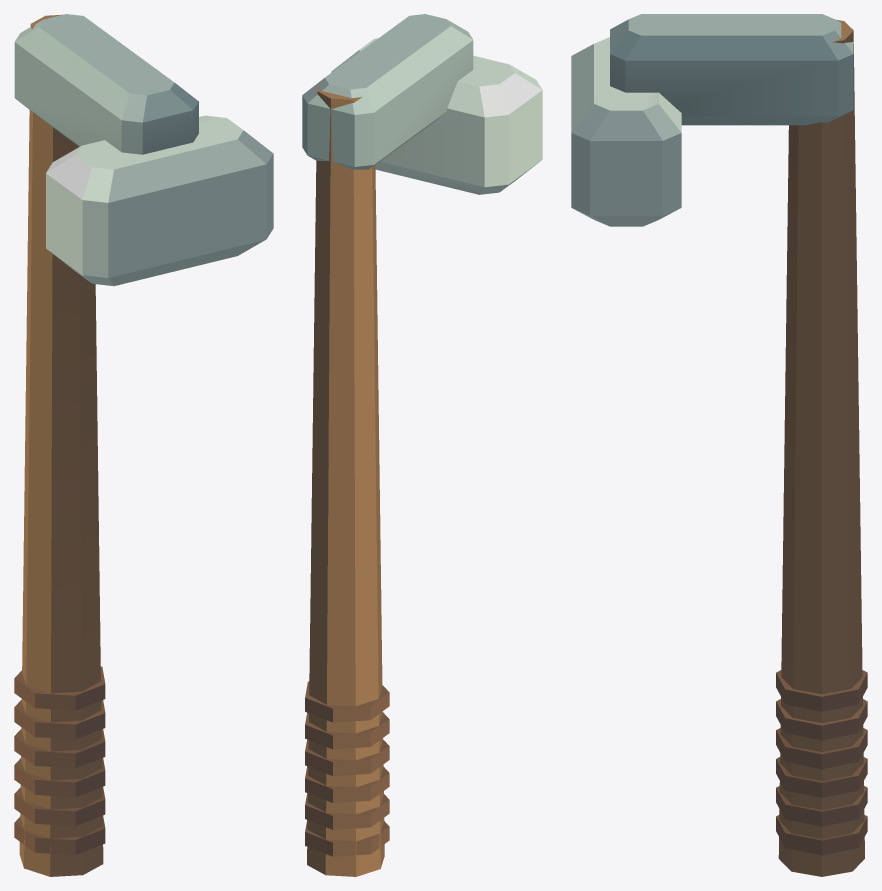
The model's file is star_hoe.glb.
3 renders of one model, left to right at view 1: azimuth 30°, elevation 25°; view 2: azimuth 150°, elevation 25°; view 3: azimuth 270°, elevation 25°, orthographic. The views are drawn at different scales.
Parts seen in each view (by area): view 1: star_hoe; view 2: star_hoe; view 3: star_hoe.
Part boxes in pixels (bbox=[...]): star_hoe: bbox=[14, 14, 273, 876]; star_hoe: bbox=[302, 14, 542, 876]; star_hoe: bbox=[571, 14, 867, 876].
Bounding box in the file's own units: 0.173 × 0.725 × 0.2336.
